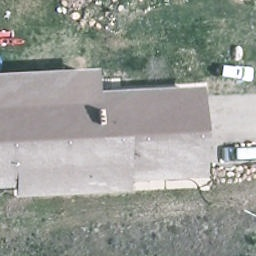car: (215, 65, 255, 83)
